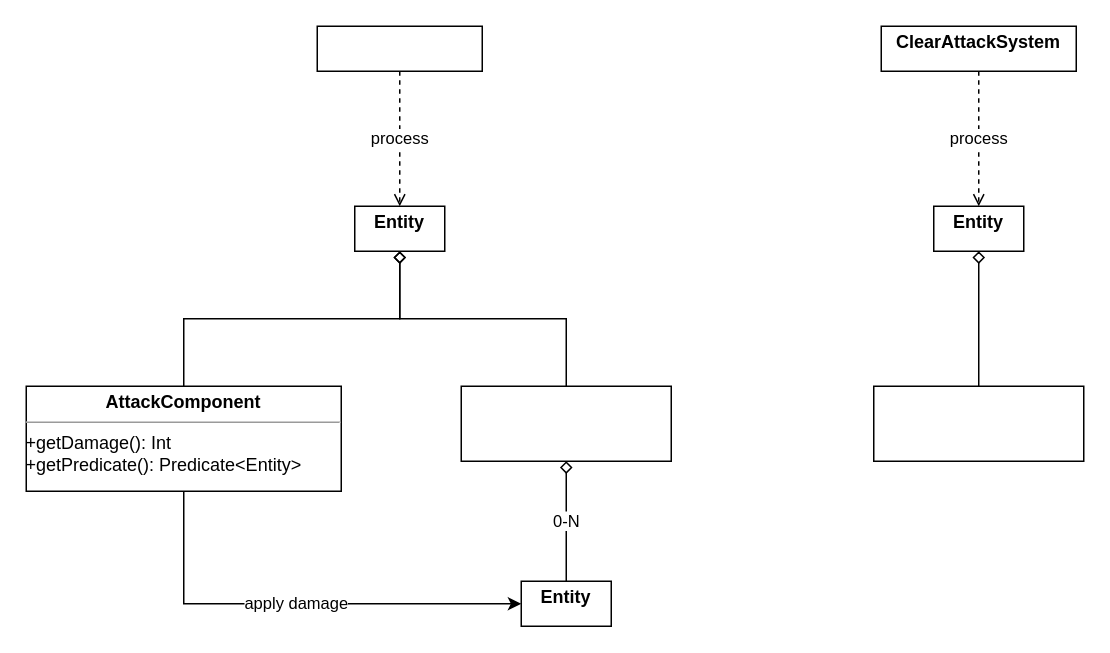
This 1110x653 diagram has some shape labels left out. The centre of each missing label's shape, as x and y in pixels:
CollisionComponent: [565,423]
CombatSystem: [399,48]
MeleeComponent: [978,423]
